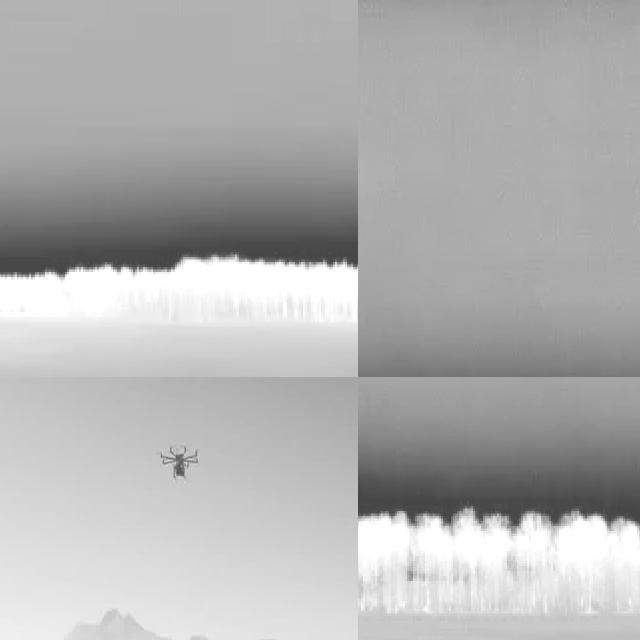drone: (158, 434, 201, 488)
